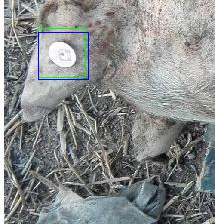text: (38, 28, 85, 77)
